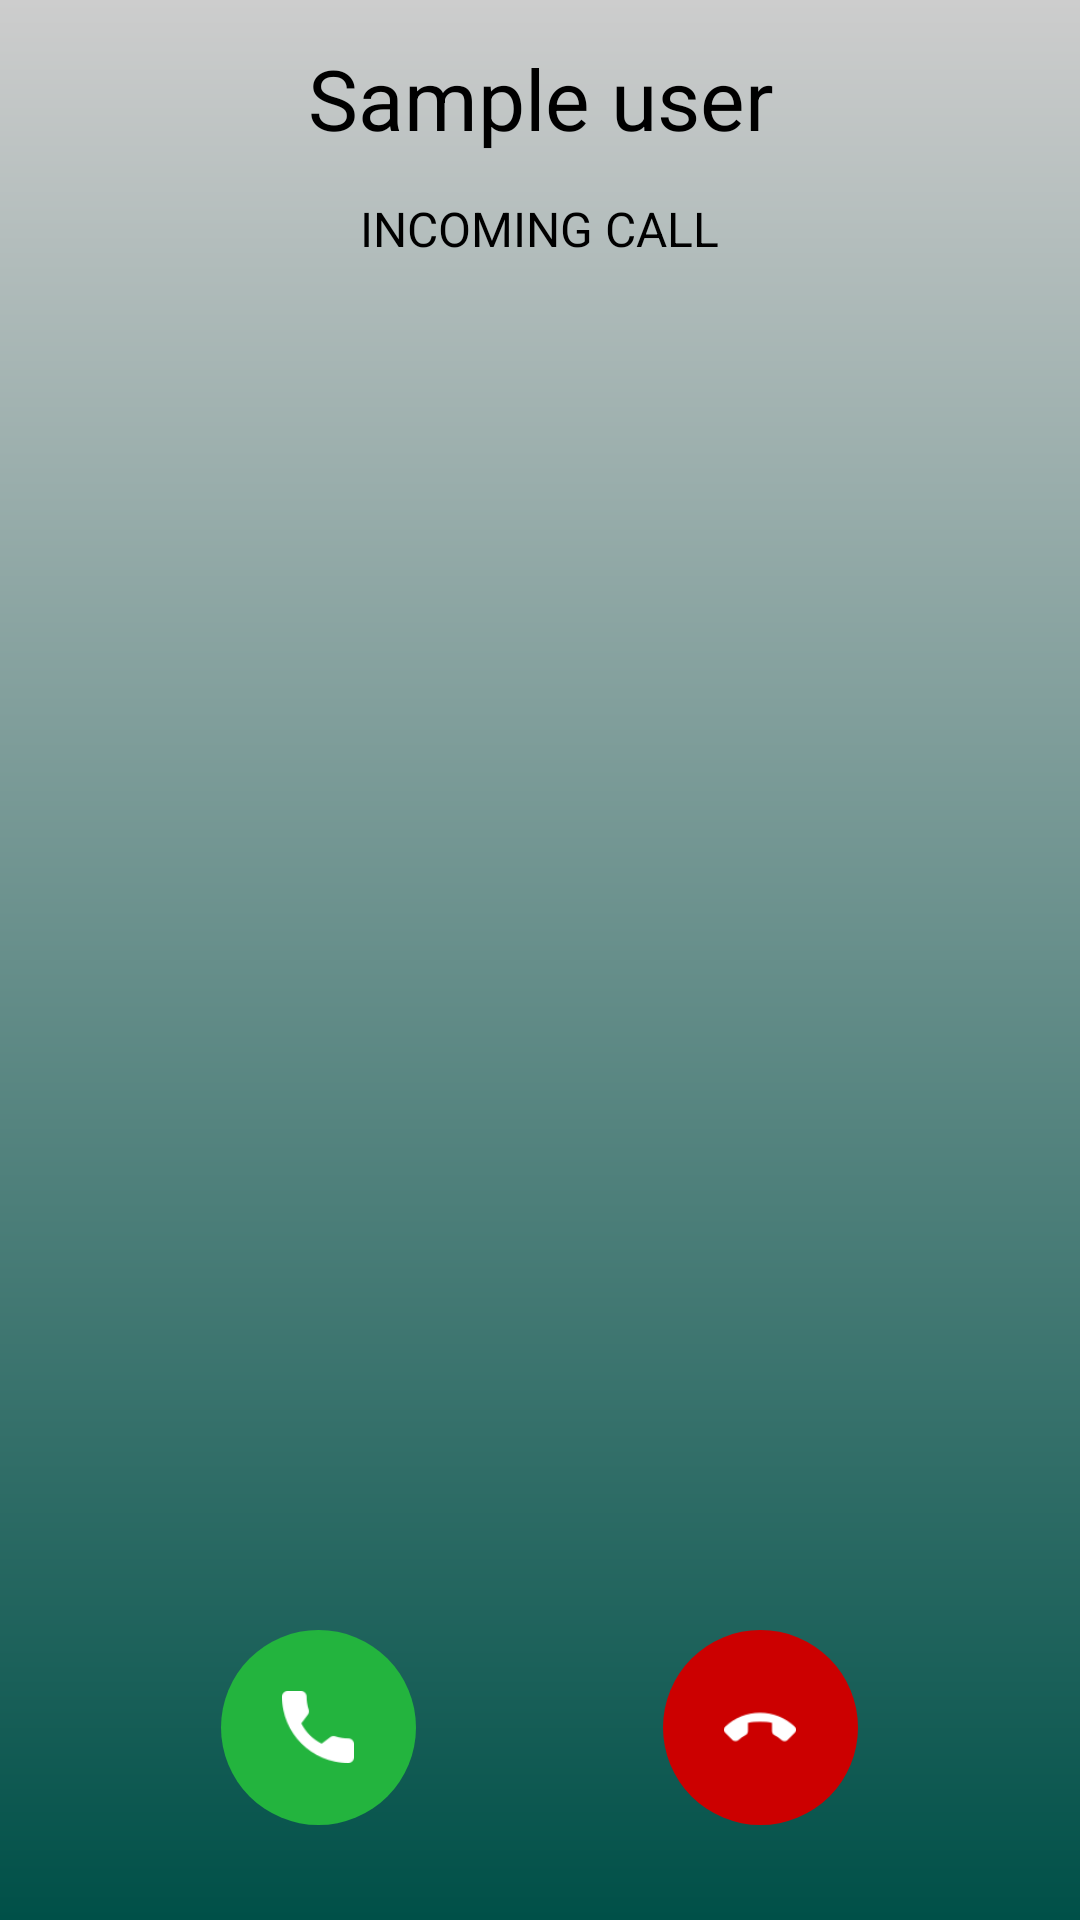

Icons on this 1080 x 1920 Android screen, each with its box as (x1, y1, x2, y2):
end call: (724, 1712, 796, 1742)
phone come: (282, 1691, 354, 1763)
